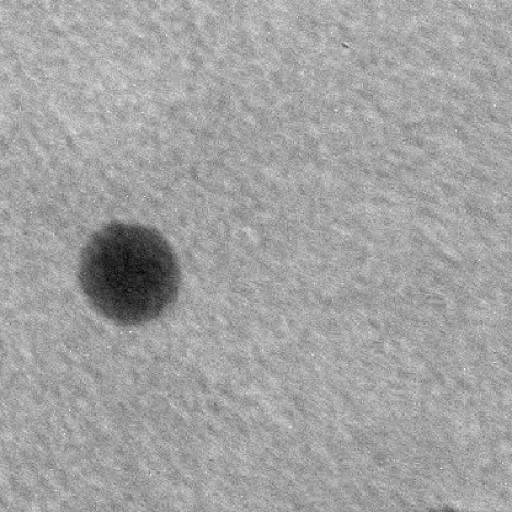Nanoparticles: (74, 220, 182, 330)
